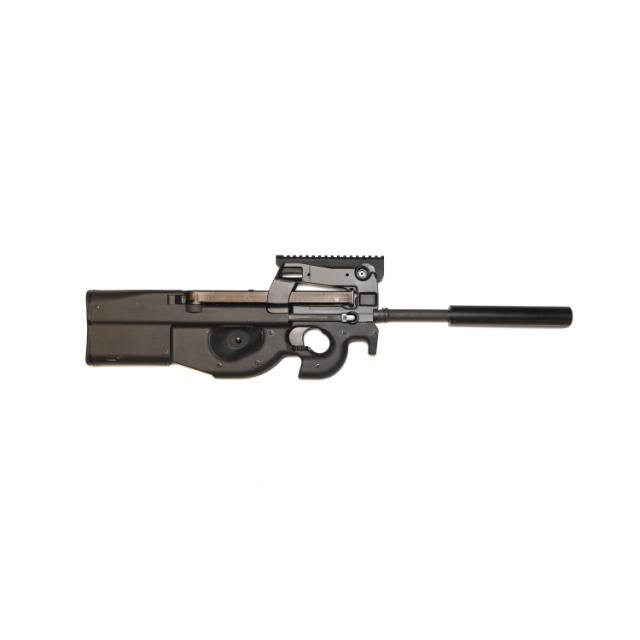SMG: (84, 255, 574, 382)
